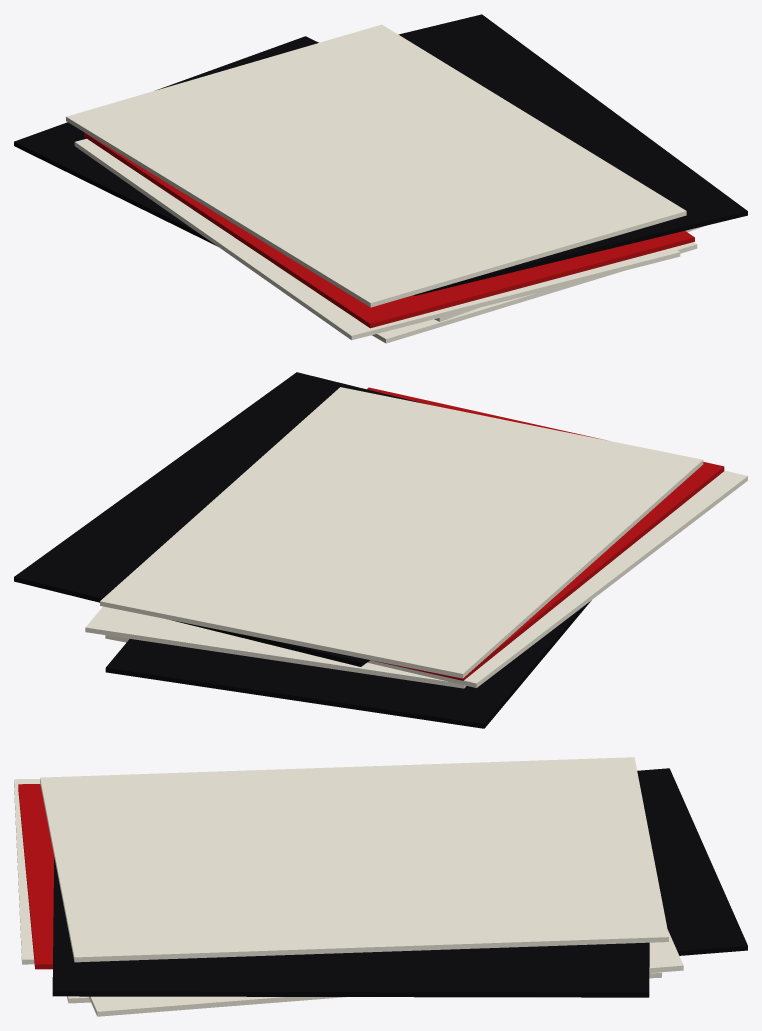
Rendered from Item_OR_Cards_16.glb.
The picture shows the model from 3 angles, top to bottom: view 1: azimuth 30°, elevation 25°; view 2: azimuth 150°, elevation 25°; view 3: azimuth 270°, elevation 25°; orthographic projection. The views are drawn at different scales.
Parts seen in each view (by area): view 1: Item_OR_Cards_16; view 2: Item_OR_Cards_16; view 3: Item_OR_Cards_16.
Part boxes in pixels (x1=…): Item_OR_Cards_16: x1=14, y1=14, x2=747, y2=343; Item_OR_Cards_16: x1=14, y1=372, x2=747, y2=728; Item_OR_Cards_16: x1=14, y1=757, x2=747, y2=1016.
Bounding box in the file's own units: 0.0872 × 0.0068 × 0.1083.
